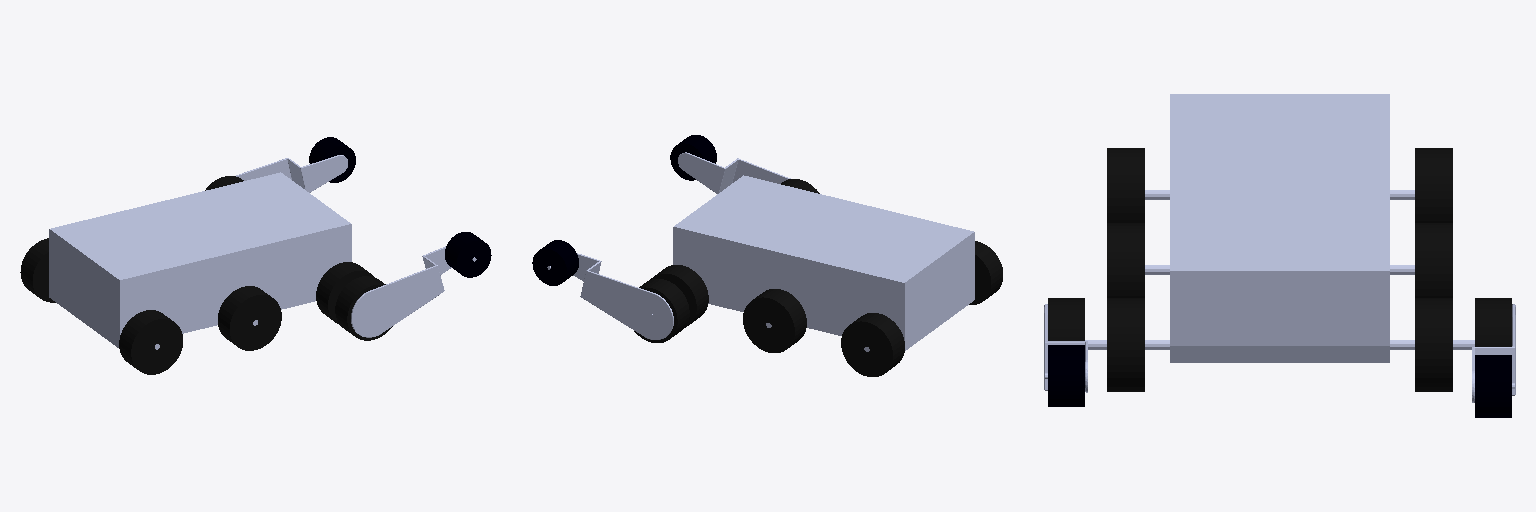
The robot description file, URDF, robot "hendbot":
<?xml version="1.0" ?>
<!-- =================================================================================== -->
<!-- |    This document was autogenerated by xacro from robot_core.xacro               | -->
<!-- |    EDITING THIS FILE BY HAND IS NOT RECOMMENDED                                 | -->
<!-- =================================================================================== -->
<!-- This URDF was automatically created by SolidWorks to URDF Exporter! Originally created by [author] ([email redacted]) 
     Commit Version: 1.6.0-4-g7f85cfe  Build Version: 1.6.7995.38578
     For more information, please see http://wiki.ros.org/sw_urdf_exporter -->
<robot name="hendbot">
  <material name="white">
    <color rgba="1 1 1 1"/>
  </material>
  <material name="orange">
    <color rgba="1 0.3 0.1 1"/>
  </material>
  <material name="blue">
    <color rgba="0.2 0.2 1 1"/>
  </material>
  <material name="black">
    <color rgba="0 0 0 1"/>
  </material>
  <link name="base_link">

  </link>
  <!-- BASE_FOOTPRINT LINK -->
  <joint name="base_footprint_joint" type="fixed">
    <parent link="base_link"/>
    <child link="base_footprint"/>
    <origin rpy="0 0 0" xyz="0 0 0"/>
  </joint>
  <link name="base_footprint">
  </link>
  <link name="hend_link">
    <inertial>
      <origin rpy="0 0 0" xyz="0.328696423253543 -2.60874698367187E-17 0.0950289066631501"/>
      <mass value="43.4880454963273"/>
      <inertia ixx="0.580105726031867" ixy="4.51081599921307E-16" ixz="-0.0125188942101638" iyy="1.698173281021" iyz="1.45266351536115E-16" izz="2.0236419336975"/>
    </inertial>
    <visual>
      <origin rpy="0 0 0" xyz="0 0 0"/>
      <geometry>
        <mesh filename="package://hendbot/meshes/base_link.STL"/>
      </geometry>
      <material name="">
        <color rgba="0.792156862745098 0.819607843137255 0.933333333333333 1"/>
      </material>
    </visual>
    <collision>
      <origin rpy="0 0 0" xyz="0 0 0"/>
      <geometry>
        <mesh filename="package://hendbot/meshes/base_link.STL"/>
      </geometry>
    </collision>
  </link>
  <joint name="hend_joint" type="fixed">
    <parent link="base_link"/>
    <child link="hend_link"/>
    <origin xyz="-0.33246 0 0"/>
  </joint>
  <gazebo reference="hend_link">
    <material>Gazebo/Black</material>
  </gazebo>
  <link name="RBW_Link">
    <inertial>
      <origin rpy="0 0 0" xyz="-5.55111512312578E-17 -6.93889390390723E-18 -0.0300000000000001"/>
      <mass value="2.83020427295128"/>
      <inertia ixx="0.00487431930909034" ixy="2.16840434497101E-19" ixz="-2.6439984961889E-21" iyy="0.00487431930909034" iyz="7.20071906052003E-21" izz="0.00805051605440992"/>
    </inertial>
    <visual>
      <origin rpy="0 0 0" xyz="0 0 0"/>
      <geometry>
        <mesh filename="package://hendbot/meshes/RBW_Link.STL"/>
      </geometry>
      <material name="">
        <color rgba="0.101960784313725 0.101960784313725 0.101960784313725 1"/>
      </material>
    </visual>
    <collision>
      <origin rpy="0 0 0" xyz="0 0 0"/>
      <geometry>
        <mesh filename="package://hendbot/meshes/RBW_Link.STL"/>
      </geometry>
    </collision>
  </link>
  <joint name="RBW_Joint" type="fixed">
    <origin rpy="-1.5708 0.11175 0" xyz="0.05 -0.215 0.035"/>
    <parent link="hend_link"/>
    <child link="RBW_Link"/>
    <axis xyz="0 0 1"/>
    <limit effort="100" velocity="100"/>
    <dynamics damping="0.1" friction="0.1"/>
  </joint>
  <gazebo reference="RBW_Link">
    <material>Gazebo/Orange</material>
    <mu1 value="0.1"/>
    <mu2 value="0.1"/>
  </gazebo>
  <link name="LBW_Link">
    <inertial>
      <origin rpy="0 0 0" xyz="-5.55111512312578E-17 1.66533453693773E-16 0.03"/>
      <mass value="2.83020427295128"/>
      <inertia ixx="0.00487431930909034" ixy="-5.42101086242752E-19" ixz="-7.92471037265887E-20" iyy="0.00487431930909034" iyz="2.11365740243217E-19" izz="0.00805051605440992"/>
    </inertial>
    <visual>
      <origin rpy="0 0 0" xyz="0 0 0"/>
      <geometry>
        <mesh filename="package://hendbot/meshes/LBW_Link.STL"/>
      </geometry>
      <material name="">
        <color rgba="0.101960784313725 0.101960784313725 0.101960784313725 1"/>
      </material>
    </visual>
    <collision>
      <origin rpy="0 0 0" xyz="0 0 0"/>
      <geometry>
        <mesh filename="package://hendbot/meshes/LBW_Link.STL"/>
      </geometry>
    </collision>
  </link>
  <joint name="LBW_Joint" type="fixed">
    <origin rpy="1.5708 -1.1717 3.1416" xyz="0.05 0.215 0.035"/>
    <parent link="hend_link"/>
    <child link="LBW_Link"/>
    <axis xyz="0 0 1"/>
    <limit effort="100" velocity="100"/>
    <dynamics damping="0.1" friction="0.1"/>
  </joint>
  <gazebo reference="LBW_Link">
    <material>Gazebo/Orange</material>
    <mu1 value="0.1"/>
    <mu2 value="0.1"/>
  </gazebo>
  <link name="WRBelt_Link">
    <inertial>
      <origin rpy="0 0 0" xyz="-5.06990479587008E-06 3.91305833367592E-06 -0.03"/>
      <mass value="2.83020427295128"/>
      <inertia ixx="0.00487431930909035" ixy="2.16840434497101E-19" ixz="9.79617266491298E-36" iyy="0.00487431930909035" iyz="7.94183936865276E-36" izz="0.00805051605440992"/>
    </inertial>
    <visual>
      <origin rpy="0 0 0" xyz="0 0 0"/>
      <geometry>
        <mesh filename="package://hendbot/meshes/WRBelt_Link.STL"/>
      </geometry>
      <material name="">
        <color rgba="0.101960784313725 0.101960784313725 0.101960784313725 1"/>
      </material>
    </visual>
    <collision>
      <origin rpy="0 0 0" xyz="0 0 0"/>
      <geometry>
        <mesh filename="package://hendbot/meshes/WRBelt_Link.STL"/>
      </geometry>
    </collision>
  </link>
  <joint name="WRBelt_Joint" type="continuous">
    <origin rpy="-1.5708 0.65732 0" xyz="0.00004 -0.215 0.035052"/>
    <parent link="base_link"/>
    <child link="WRBelt_Link"/>
    <axis xyz="0 0 1"/>
    <limit effort="100" velocity="100"/>
    <dynamics damping="0.1" friction="0.1"/>
  </joint>
  <gazebo reference="WRBelt_Link">
    <material>Gazebo/Blue</material>
  </gazebo>
  <link name="WLBelt_Link">
    <inertial>
      <origin rpy="0 0 0" xyz="6.00761815290098E-06 2.21911790831281E-06 0.03"/>
      <mass value="2.83020427295128"/>
      <inertia ixx="0.00487431930909034" ixy="1.0842021724855E-19" ixz="-5.9576058536142E-21" iyy="0.00487431930909034" iyz="-3.72125275370687E-22" izz="0.00805051605440991"/>
    </inertial>
    <visual>
      <origin rpy="0 0 0" xyz="0 0 0"/>
      <geometry>
        <mesh filename="package://hendbot/meshes/WLBelt_Link.STL"/>
      </geometry>
      <material name="">
        <color rgba="0.101960784313725 0.101960784313725 0.101960784313725 1"/>
      </material>
    </visual>
    <collision>
      <origin rpy="0 0 0" xyz="0 0 0"/>
      <geometry>
        <mesh filename="package://hendbot/meshes/WLBelt_Link.STL"/>
      </geometry>
    </collision>
  </link>
  <joint name="WLBelt_Joint" type="continuous">
    <origin rpy="1.5708 0.35384 -3.1416" xyz="0.00004 0.215 0.035052"/>
    <parent link="base_link"/>
    <child link="WLBelt_Link"/>
    <axis xyz="0 0 1"/>
    <limit effort="100" velocity="100"/>
    <dynamics damping="0.1" friction="0.1"/>
  </joint>
  <gazebo reference="WLBelt_Link">
    <material>Gazebo/Blue</material>
  </gazebo>
  <link name="RFW_Link">
    <inertial>
      <origin rpy="0 0 0" xyz="1.11022302462516E-16 5.55111512312578E-17 -0.0299999999999999"/>
      <mass value="2.83020427295128"/>
      <inertia ixx="0.00487431930909035" ixy="5.42101086242752E-19" ixz="-1.31497251854061E-19" iyy="0.00487431930909034" iyz="-2.24427537663732E-19" izz="0.00805051605440992"/>
    </inertial>
    <visual>
      <origin rpy="0 0 0" xyz="0 0 0"/>
      <geometry>
        <mesh filename="package://hendbot/meshes/RFW_Link.STL"/>
      </geometry>
      <material name="">
        <color rgba="0.101960784313725 0.101960784313725 0.101960784313725 1"/>
      </material>
    </visual>
    <collision>
      <origin rpy="0 0 0" xyz="0 0 0"/>
      <geometry>
        <mesh filename="package://hendbot/meshes/RFW_Link.STL"/>
      </geometry>
    </collision>
  </link>
  <joint name="RFW_joint" type="fixed">
    <origin rpy="1.5708 0.34292 -3.1416" xyz="0.61491 -0.215 0.035103"/>
    <parent link="hend_link"/>
    <child link="RFW_Link"/>
    <axis xyz="0 0 1"/>
    <limit effort="100" velocity="100"/>
    <dynamics damping="0.1" friction="0.1"/>
  </joint>
  <gazebo reference="RFW_Link">
    <material>Gazebo/Orange</material>
    <mu1 value="0.1"/>
    <mu2 value="0.1"/>
  </gazebo>
  <link name="LFW_Link">
    <inertial>
      <origin rpy="0 0 0" xyz="8.32667268468867E-17 5.55111512312578E-17 0.0299999999999999"/>
      <mass value="2.83020427295128"/>
      <inertia ixx="0.00487431930909034" ixy="0" ixz="-1.10167760345487E-18" iyy="0.00487431930909034" iyz="-2.59138014296351E-20" izz="0.00805051605440992"/>
    </inertial>
    <visual>
      <origin rpy="0 0 0" xyz="0 0 0"/>
      <geometry>
        <mesh filename="package://hendbot/meshes/LFW_Link.STL"/>
      </geometry>
      <material name="">
        <color rgba="0.101960784313725 0.101960784313725 0.101960784313725 1"/>
      </material>
    </visual>
    <collision>
      <origin rpy="0 0 0" xyz="0 0 0"/>
      <geometry>
        <mesh filename="package://hendbot/meshes/LFW_Link.STL"/>
      </geometry>
    </collision>
  </link>
  <joint name="LFW_Joint" type="fixed">
    <origin rpy="1.5708 0.76776 -3.1416" xyz="0.61491 0.215 0.035103"/>
    <parent link="hend_link"/>
    <child link="LFW_Link"/>
    <axis xyz="0 0 1"/>
    <limit effort="100" velocity="100"/>
    <dynamics damping="0.1" friction="0.1"/>
  </joint>
  <gazebo reference="LFW_Link">
    <material>Gazebo/Orange</material>
    <mu1 value="0.1"/>
    <mu2 value="0.1"/>
  </gazebo>
  <link name="RFFW_Link">
    <inertial>
      <origin rpy="0 0 0" xyz="2.77555756156289E-17 -2.77555756156289E-17 -0.0300000000000004"/>
      <mass value="2.83020427295128"/>
      <inertia ixx="0.00487431930909035" ixy="0" ixz="-3.02041096973436E-18" iyy="0.00487431930909034" iyz="5.63440194482331E-18" izz="0.00805051605440992"/>
    </inertial>
    <visual>
      <origin rpy="0 0 0" xyz="0 0 0"/>
      <geometry>
        <mesh filename="package://hendbot/meshes/RFFW_Link.STL"/>
      </geometry>
      <material name="">
        <color rgba="0.101960784313725 0.101960784313725 0.101960784313725 1"/>
      </material>
    </visual>
    <collision>
      <origin rpy="0 0 0" xyz="0 0 0"/>
      <geometry>
        <mesh filename="package://hendbot/meshes/RFFW_Link.STL"/>
      </geometry>
    </collision>
  </link>
  <joint name="RFFW_Joint" type="continuous">
    <origin rpy="-1.5708 -0.76747 0" xyz="0.61491 -0.31 0.035103"/>
    <parent link="hend_link"/>
    <child link="RFFW_Link"/>
    <axis xyz="0 0 1"/>
    <limit effort="100" lower="0" upper="0.785" velocity="100"/>
    <dynamics damping="0.1" friction="0.1"/>
  </joint>
  <gazebo reference="RFFW_Link">
    <material>Gazebo/Orange</material>
    <mu1 value="0.1"/>
    <mu2 value="0.1"/>
  </gazebo>
  <link name="RF_Link">
    <inertial>
      <origin rpy="0 0 0" xyz="0.116802763167045 -0.00888303440495468 -0.0451647957579333"/>
      <mass value="0.204447676178174"/>
      <inertia ixx="0.000307626591941256" ixy="6.45911023981527E-06" ixz="-0.000427165594157326" iyy="0.00234079047956499" iyz="1.81632274337046E-06" izz="0.0023527687683258"/>
    </inertial>
    <visual>
      <origin rpy="0 0 0" xyz="0 0 0"/>
      <geometry>
        <mesh filename="package://hendbot/meshes/RF_Link.STL"/>
      </geometry>
      <material name="">
        <color rgba="0.792156862745098 0.819607843137255 0.933333333333333 1"/>
      </material>
    </visual>
    <collision>
      <origin rpy="0 0 0" xyz="0 0 0"/>
      <geometry>
        <mesh filename="package://hendbot/meshes/RF_Link.STL"/>
      </geometry>
    </collision>
  </link>
  <joint name="RF_Joint" type="fixed">
    <origin rpy="0 0 0.504452455101276" xyz="0 0.01 0"/>
    <parent link="RFFW_Link"/>
    <child link="RF_Link"/>
    <axis xyz="0 0 0"/>
    <limit effort="0" lower="0" upper="0" velocity="0"/>
  </joint>
  <link name="RW_Link">
    <inertial>
      <origin rpy="0 0 0" xyz="8.32667268468867E-17 5.55111512312578E-16 -0.03"/>
      <mass value="0.466526509058084"/>
      <inertia ixx="0.000434452811560341" ixy="-4.1972501374133E-21" ixz="-1.25523865608312E-20" iyy="0.000434452811560341" iyz="2.74929016542641E-21" izz="0.000588989717685832"/>
    </inertial>
    <visual>
      <origin rpy="0 0 0" xyz="0 0 0"/>
      <geometry>
        <mesh filename="package://hendbot/meshes/RW_Link.STL"/>
      </geometry>
      <material name="">
        <color rgba="0 0 0.0470588235294118 1"/>
      </material>
    </visual>
    <collision>
      <origin rpy="0 0 0" xyz="0 0 0"/>
      <geometry>
        <mesh filename="package://hendbot/meshes/RW_Link.STL"/>
      </geometry>
    </collision>
  </link>
  <joint name="RW_Joint" type="fixed">
    <origin rpy="0 0 -1.3078" xyz="0.29495 -0.010546 0"/>
    <parent link="RF_Link"/>
    <child link="RW_Link"/>
    <axis xyz="0 0 1"/>
    <limit effort="100" lower="0" upper="0" velocity="100"/>
    <dynamics damping="0.1" friction="0.1"/>
  </joint>
  <gazebo reference="RW_Link">
    <material>Gazebo/Orange</material>
    <mu1 value="0.1"/>
    <mu2 value="0.1"/>
  </gazebo>
  <link name="LFFW_Link">
    <inertial>
      <origin rpy="0 0 0" xyz="0 0 0.0300000000000001"/>
      <mass value="2.83020427295128"/>
      <inertia ixx="0.00487431930909034" ixy="4.33680868994202E-19" ixz="4.16665986175241E-19" iyy="0.00487431930909035" iyz="-2.13864119876703E-19" izz="0.00805051605440992"/>
    </inertial>
    <visual>
      <origin rpy="0 0 0" xyz="0 0 0"/>
      <geometry>
        <mesh filename="package://hendbot/meshes/LFFW_Link.STL"/>
      </geometry>
      <material name="">
        <color rgba="0.101960784313725 0.101960784313725 0.101960784313725 1"/>
      </material>
    </visual>
    <collision>
      <origin rpy="0 0 0" xyz="0 0 0"/>
      <geometry>
        <mesh filename="package://hendbot/meshes/LFFW_Link.STL"/>
      </geometry>
    </collision>
  </link>
  <joint name="LFFW_Joint" type="continuous">
    <origin rpy="1.5708 -1.005 3.1416" xyz="0.61491 0.30998 0.035103"/>
    <parent link="hend_link"/>
    <child link="LFFW_Link"/>
    <axis xyz="0 0 1"/>
    <limit effort="100" lower="0" upper="0.785" velocity="100"/>
    <dynamics damping="0.1" friction="0.1"/>
  </joint>
  <gazebo reference="LFFW_Link">
    <material>Gazebo/Orange</material>
    <mu1 value="0.1"/>
    <mu2 value="0.1"/>
  </gazebo>
  <link name="LF_Link">
    <inertial>
      <origin rpy="0 0 0" xyz="0.121636063593485 0.00012866330010497 0.0451847908566546"/>
      <mass value="0.204447835856117"/>
      <inertia ixx="0.000307626696889609" ixy="-6.45895372599709E-06" ixz="0.000427165888889448" iyy="0.00234079146265305" iyz="1.81619833910581E-06" izz="0.00235276956824831"/>
    </inertial>
    <visual>
      <origin rpy="0 0 0" xyz="0 0 0"/>
      <geometry>
        <mesh filename="package://hendbot/meshes/LF_Link.STL"/>
      </geometry>
      <material name="">
        <color rgba="0.792156862745098 0.819607843137255 0.933333333333333 1"/>
      </material>
    </visual>
    <collision>
      <origin rpy="0 0 0" xyz="0 0 0"/>
      <geometry>
        <mesh filename="package://hendbot/meshes/LF_Link.STL"/>
      </geometry>
    </collision>
  </link>
  <joint name="LF_Joint" type="fixed">
    <origin rpy="0 0 1.91705217764631" xyz="0 0 0"/>
    <parent link="LFFW_Link"/>
    <child link="LF_Link"/>
    <axis xyz="0 0 0"/>
  </joint>
  <link name="LW_Link">
    <inertial>
      <origin rpy="0 0 0" xyz="4.02455846426619E-16 1.11022302462516E-15 0.03"/>
      <mass value="0.466526509058084"/>
      <inertia ixx="0.000434452811560341" ixy="-5.43525904847875E-20" ixz="1.68763772702419E-20" iyy="0.000434452811560341" iyz="7.59802921517958E-21" izz="0.000588989717685832"/>
    </inertial>
    <visual>
      <origin rpy="0 0 0" xyz="0 0 0"/>
      <geometry>
        <mesh filename="package://hendbot/meshes/LW_Link.STL"/>
      </geometry>
      <material name="">
        <color rgba="0 0 0.0470588235294118 1"/>
      </material>
    </visual>
    <collision>
      <origin rpy="0 0 0" xyz="0 0 0"/>
      <geometry>
        <mesh filename="package://hendbot/meshes/LW_Link.STL"/>
      </geometry>
    </collision>
  </link>
  <joint name="LW_Joint" type="fixed">
    <origin rpy="0 0 1.79029753611258" xyz="0.299785014663327 0.00179117333342351 0"/>
    <parent link="LF_Link"/>
    <child link="LW_Link"/>
    <axis xyz="0 0 -1"/>
    <limit effort="100" lower="0" upper="0.785" velocity="100"/>
    <dynamics damping="0.1" friction="0.1"/>
  </joint>
  <gazebo reference="LW_Link">
    <material>Gazebo/Orange</material>
    <mu1 value="0.1"/>
    <mu2 value="0.1"/>
  </gazebo>
</robot>

--- Facts derived from the render (not from the file) ---
3 views of the same robot in one strip: view 1: azimuth 30°, elevation 25°; view 2: azimuth 150°, elevation 25°; view 3: azimuth 270°, elevation 25° (orthographic).
Robot: hendbot — 15 links, 14 joints (4 continuous, 10 fixed); root link base_link; default pose: every joint at zero.
Links seen in each view (by area): view 1: hend_link, RF_Link, WRBelt_Link, RBW_Link, LF_Link, RW_Link, RFW_Link, LBW_Link, RFFW_Link, LW_Link; view 2: hend_link, LF_Link, LBW_Link, WLBelt_Link, RF_Link, LW_Link, LFW_Link, RBW_Link, LFFW_Link, RW_Link; view 3: hend_link, RFW_Link, LFW_Link, RBW_Link, LBW_Link, WRBelt_Link, WLBelt_Link, LW_Link, RW_Link, LFFW_Link, RFFW_Link, LF_Link (+1 smaller).
Boxes of the visible links, x1,y1,x2,y2 form: hend_link: [49, 172, 376, 349]; RF_Link: [351, 246, 476, 337]; WRBelt_Link: [218, 286, 281, 350]; RBW_Link: [119, 310, 182, 374]; LF_Link: [236, 155, 347, 192]; RW_Link: [445, 232, 491, 277]; RFW_Link: [316, 262, 373, 324]; LBW_Link: [20, 238, 55, 302]; RFFW_Link: [335, 276, 392, 340]; LW_Link: [309, 137, 355, 182]; hend_link: [648, 175, 974, 351]; LF_Link: [547, 253, 673, 339]; LBW_Link: [841, 313, 904, 376]; WLBelt_Link: [743, 289, 806, 352]; RF_Link: [678, 152, 790, 193]; LW_Link: [532, 240, 578, 285]; LFW_Link: [650, 265, 708, 327]; RBW_Link: [969, 241, 1002, 304]; LFFW_Link: [634, 279, 689, 342]; RW_Link: [670, 135, 716, 180]; hend_link: [1085, 94, 1474, 362]; RFW_Link: [1107, 298, 1144, 391]; LFW_Link: [1415, 298, 1452, 391]; RBW_Link: [1107, 148, 1144, 222]; LBW_Link: [1415, 148, 1452, 222]; WRBelt_Link: [1107, 223, 1144, 297]; WLBelt_Link: [1415, 223, 1452, 297]; LW_Link: [1475, 355, 1511, 417]; RW_Link: [1048, 345, 1084, 406]; LFFW_Link: [1475, 298, 1511, 346]; RFFW_Link: [1048, 298, 1084, 340]; LF_Link: [1472, 304, 1515, 402].
Bounding box of the posed robot: 0.9827 × 0.75 × 0.2285 m (x, y, z).
Meshes: 13 distinct files referenced, 13 mesh visuals loaded (13 binary STL).
